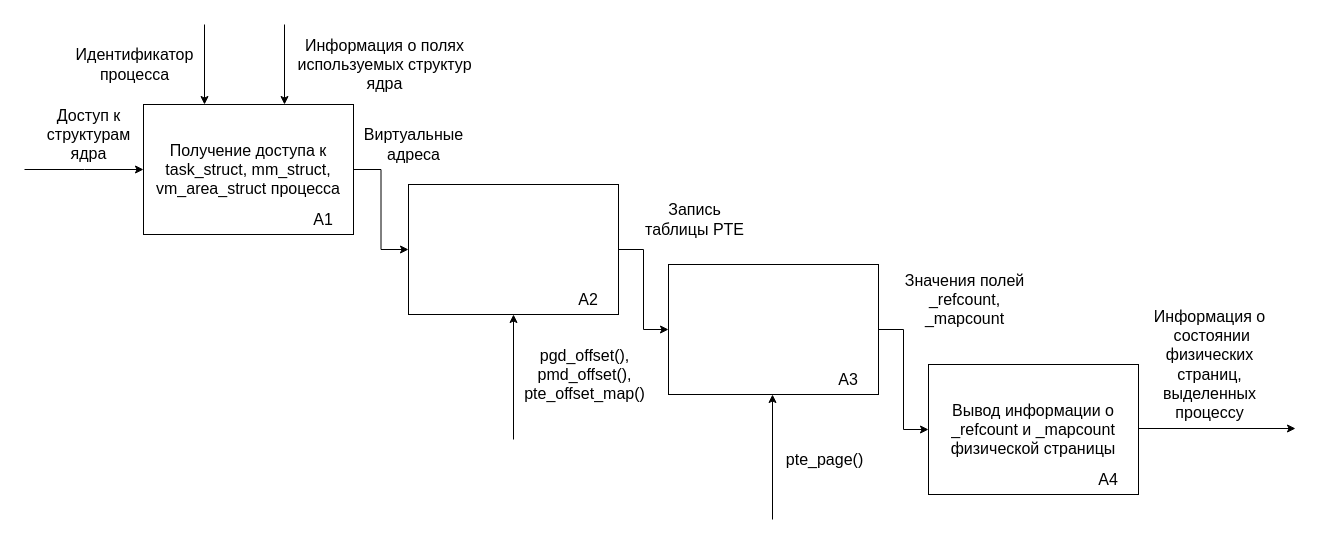
The diagram is 1321 pixels wide and 545 high, and some of its shapes have lost their labels. Each missing label, with the box of its shape:
Обращение к дескриптору физической страницы: (668, 264, 878, 394)
Получение доступа к записям таблиц страниц процесса: (408, 184, 618, 314)
